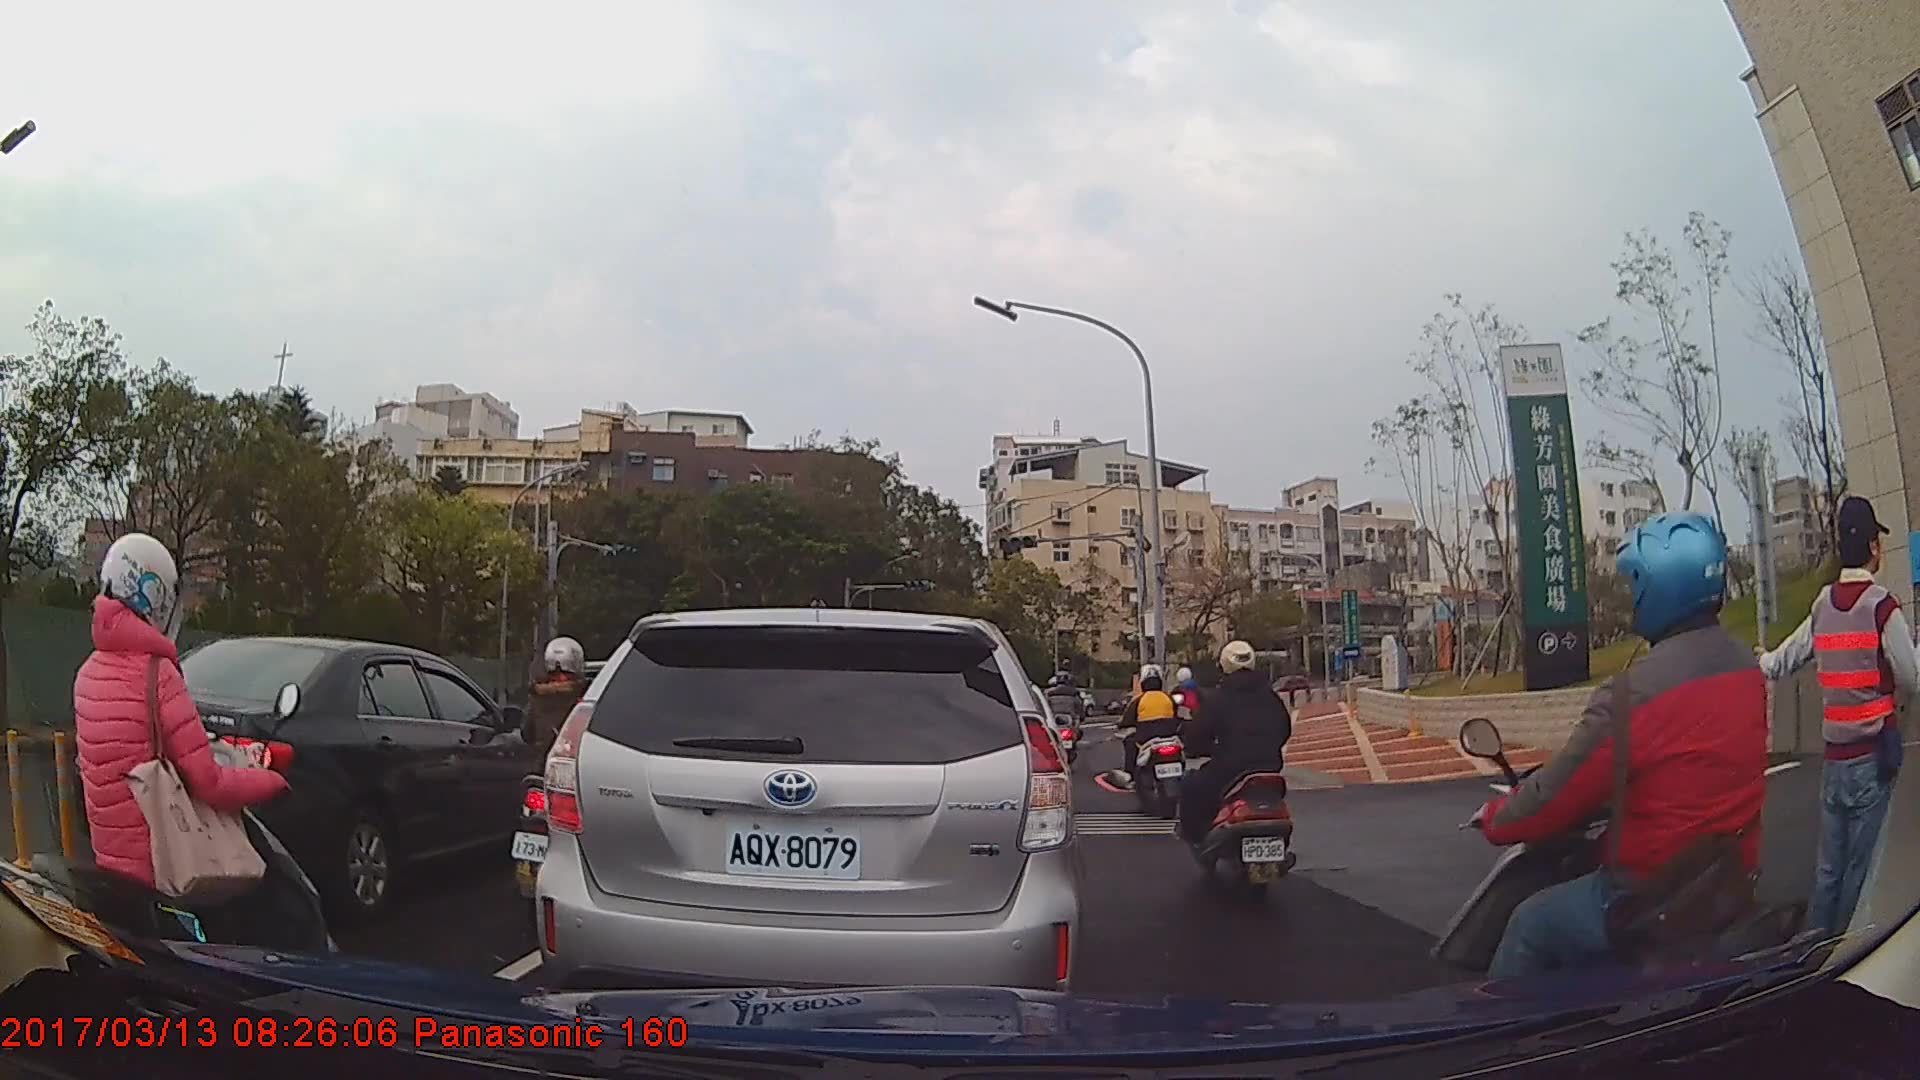pedestrian: (1748, 497, 1920, 979)
rider: (1435, 507, 1820, 1061), (8, 527, 339, 1061), (1174, 638, 1301, 912), (511, 634, 622, 923), (1117, 661, 1194, 823), (1043, 671, 1087, 768)
vehicle: (534, 607, 1086, 1025), (76, 636, 567, 920)
